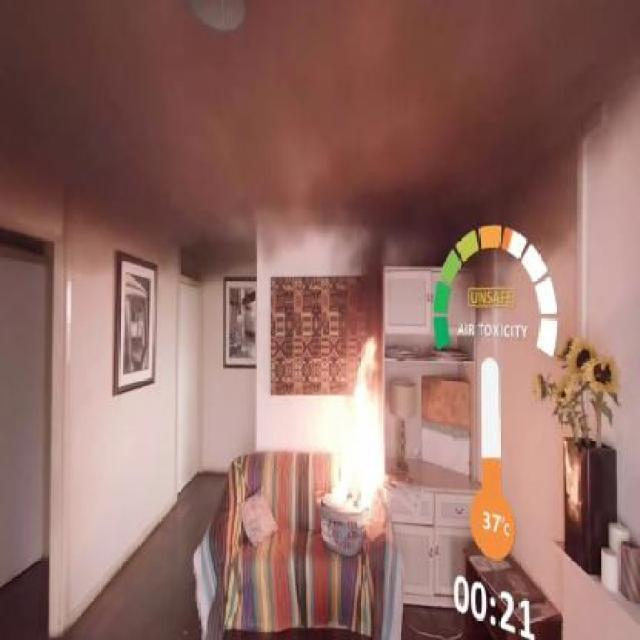fire: (307, 331, 402, 558)
smoke: (308, 93, 447, 284)
